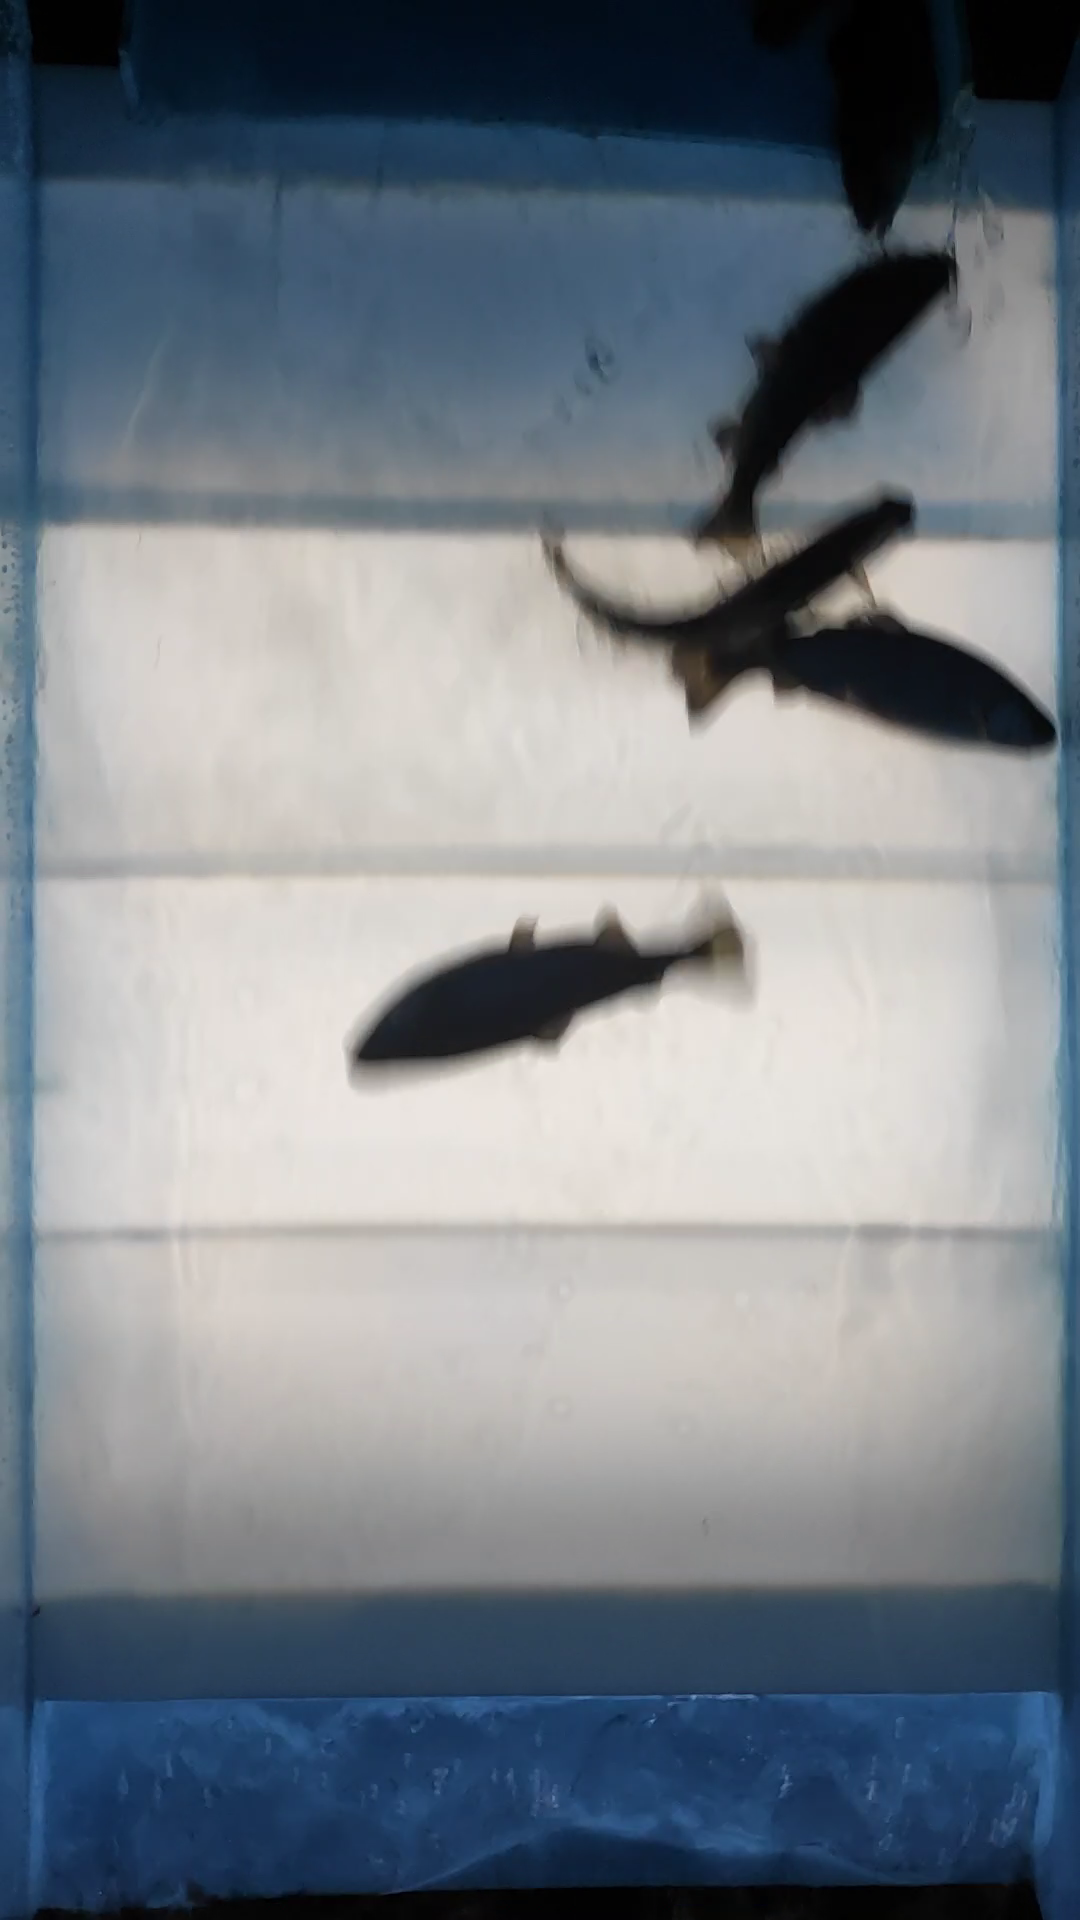fish: (675, 236, 967, 568), (336, 884, 764, 1080), (531, 492, 934, 662), (663, 609, 1060, 760)
